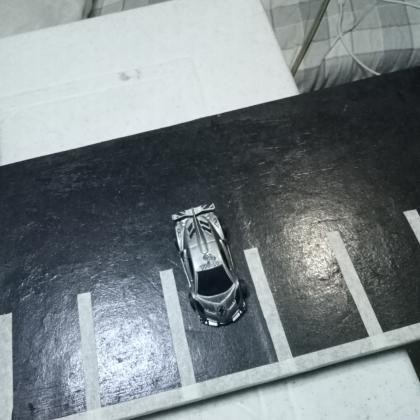Car: (168, 200, 250, 327)
